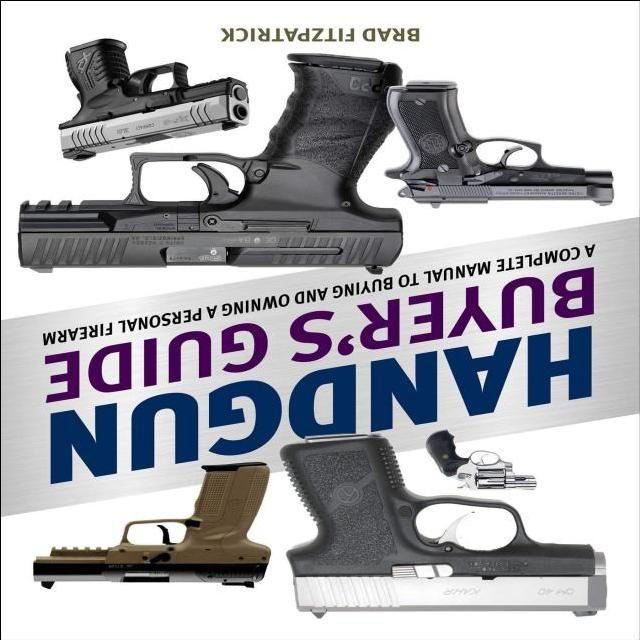pistol: (11, 50, 406, 285), (283, 437, 619, 627), (31, 464, 275, 595), (383, 86, 622, 202), (57, 42, 249, 153), (422, 423, 548, 496)
